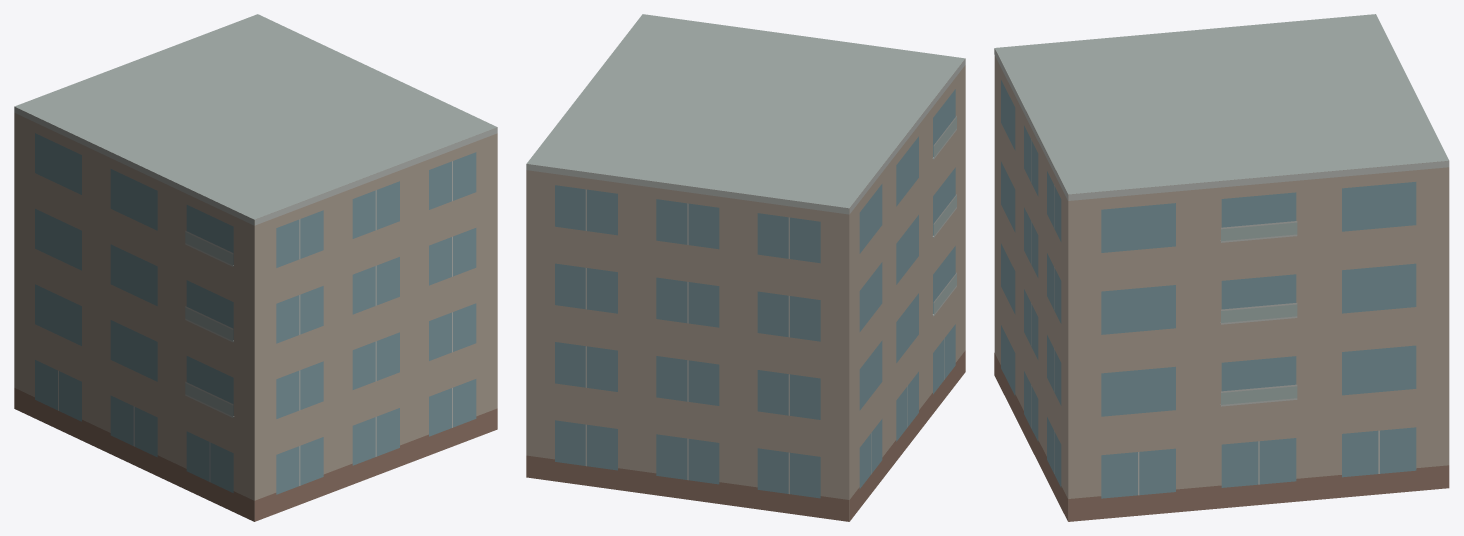
The model's file is survey-upis-32704993.glb.
3 renders of one model, left to right at view 1: azimuth 30°, elevation 25°; view 2: azimuth 150°, elevation 25°; view 3: azimuth 270°, elevation 25°, orthographic. The views are drawn at different scales.
Visible parts, largest first — view 1: survey-upis-32704993.tmp; view 2: survey-upis-32704993.tmp; view 3: survey-upis-32704993.tmp.
Part boxes in pixels (bbox=[...]): survey-upis-32704993.tmp: bbox=[14, 14, 497, 521]; survey-upis-32704993.tmp: bbox=[526, 14, 965, 521]; survey-upis-32704993.tmp: bbox=[994, 14, 1449, 521].
Size of the model in its own units: 14.43 by 12.2 by 15.37.
